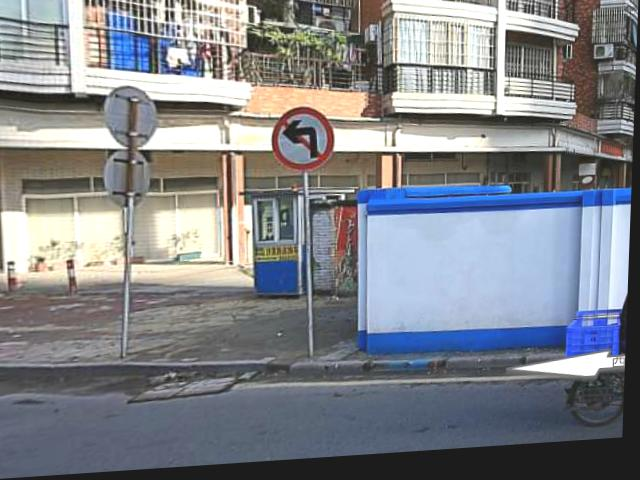not_turn_left: (272, 108, 337, 176)
